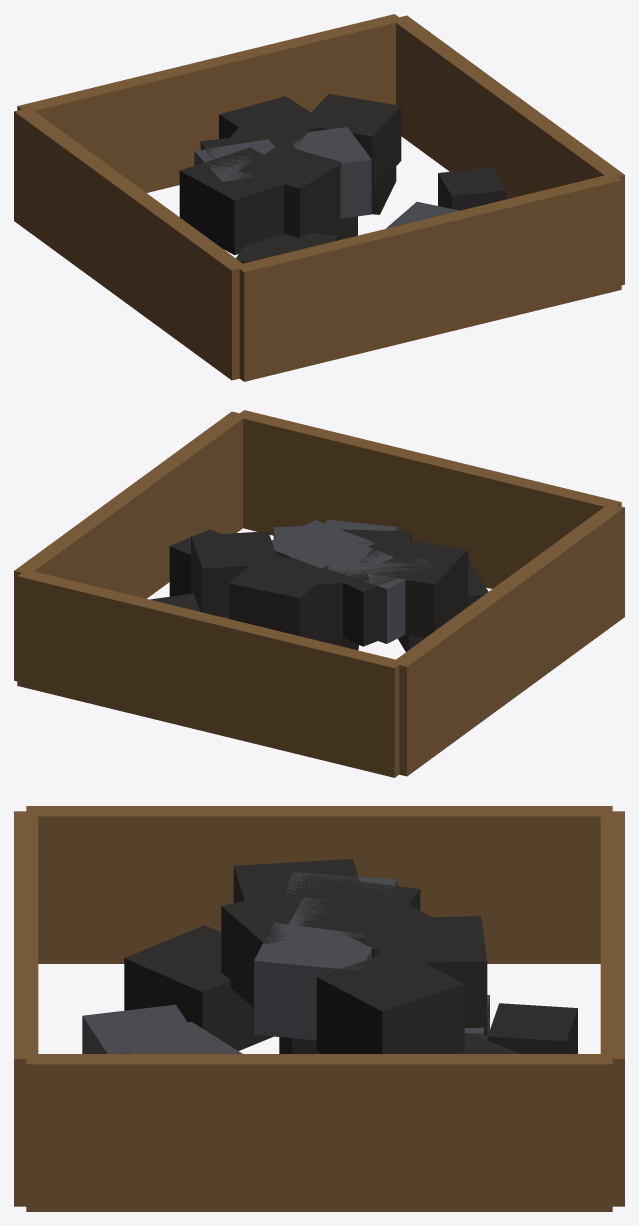
File: pile_coal_2.glb
The picture shows the model from 3 angles, top to bottom: view 1: azimuth 30°, elevation 25°; view 2: azimuth 150°, elevation 25°; view 3: azimuth 270°, elevation 25°; orthographic projection. The views are drawn at different scales.
Visible parts, largest first — view 1: pile_coal_2; view 2: pile_coal_2; view 3: pile_coal_2.
Part boxes in pixels (left/top/right/bottom): pile_coal_2: left=14, top=14, right=624, bottom=381; pile_coal_2: left=14, top=410, right=624, bottom=777; pile_coal_2: left=14, top=806, right=624, bottom=1211.
Bounding box in the file's own units: 1.5 × 0.4 × 1.5.
